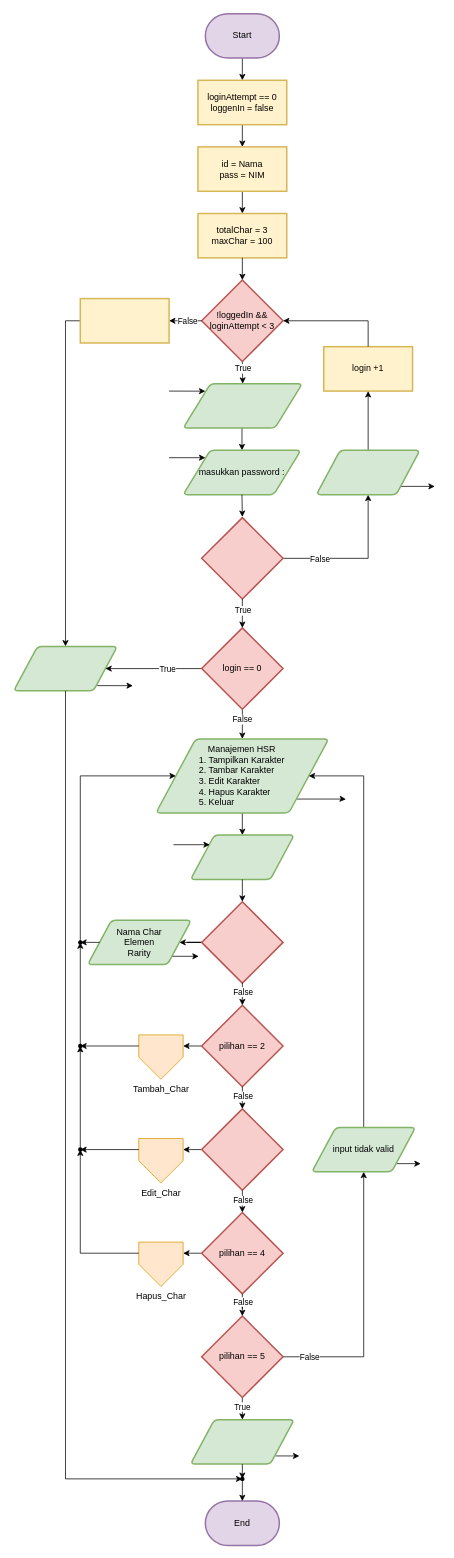
This 454x1558 diagram has some shape labels left out. Each missing label, with the centre of its shape:
"!loggedIn" goes at point (124, 320).
"id == Nama && pass == NIM" goes at point (242, 558).
"Login gagal!!! Program Berhenti" goes at point (65, 668).
"masukkan pilihan :" goes at point (242, 857).
"masukkan username :" goes at point (242, 405).
"pilihan == 1" goes at point (242, 942).
"pilihan == 3" goes at point (242, 1149).
"terimakasih" goes at point (242, 1441).
"username atau password salah" goes at point (367, 472).
